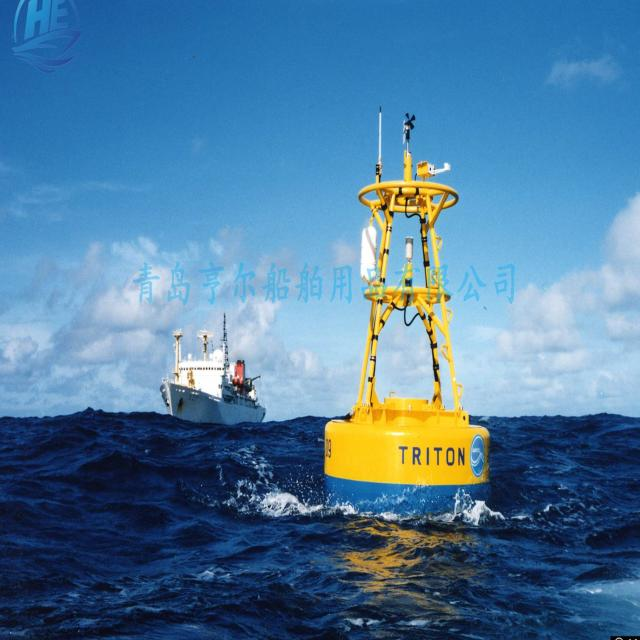buoy: (322, 110, 488, 517)
passenger ship: (163, 311, 265, 423)
